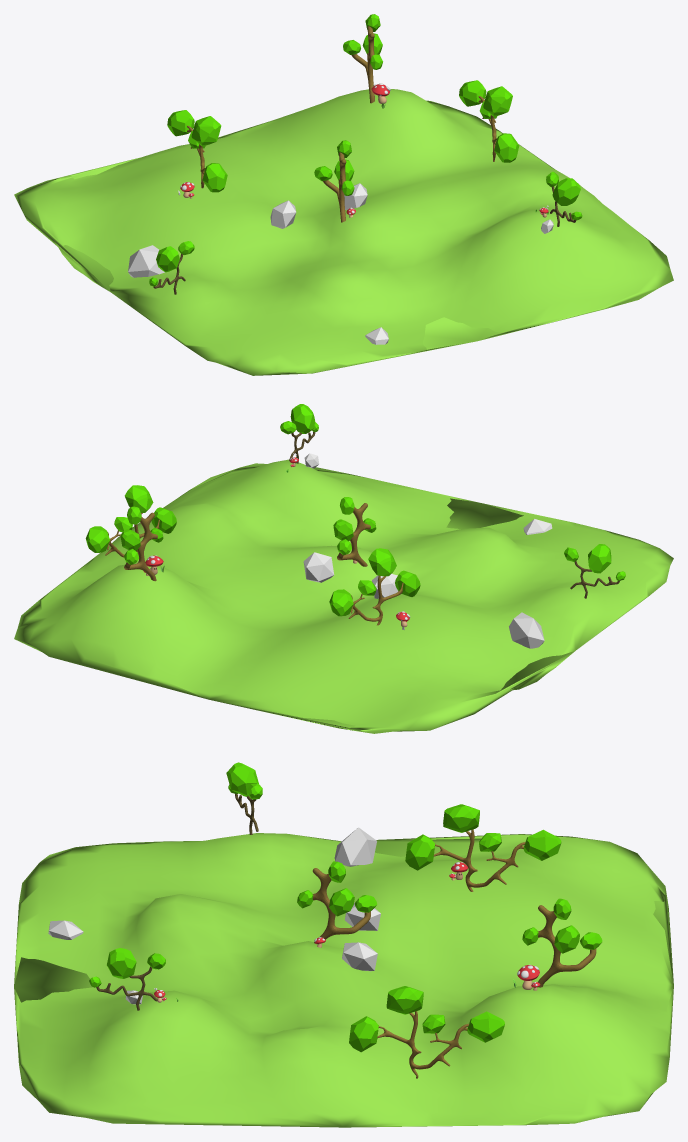
The model's file is terrainn 2.fbx.
3 renders of one model, top to bottom at view 1: azimuth 30°, elevation 25°; view 2: azimuth 150°, elevation 25°; view 3: azimuth 270°, elevation 25°, orthographic. The views are drawn at different scales.
Visible parts, largest first — view 1: Plane, Icosphere.027, Icosphere, Icosphere.018, Icosphere.005, Icosphere.019, Icosphere.002, Icosphere.023, Icosphere.020, Icosphere.004; view 2: Plane, Icosphere.027, Icosphere.022, Vert.002, Vert.005, Icosphere, Icosphere.005, Icosphere.018, Icosphere.012, Vert, Icosphere.004, Icosphere.020 (+1 smaller); view 3: Plane, Icosphere.027, Vert.002, Vert.006, Vert, Vert.005, Icosphere.018, Icosphere, Icosphere.020, Icosphere.004, Icosphere.022, Icosphere.002 (+3 smaller).
Boxes of the visible parts, left/top/right/bottom form: Plane: left=14, top=89, right=673, bottom=375; Icosphere.027: left=128, top=245, right=164, bottom=277; Icosphere: left=191, top=116, right=221, bottom=146; Icosphere.018: left=483, top=86, right=512, bottom=116; Icosphere.005: left=552, top=178, right=580, bottom=205; Icosphere.019: left=494, top=133, right=519, bottom=162; Icosphere.002: left=202, top=163, right=227, bottom=192; Icosphere.023: left=270, top=200, right=296, bottom=228; Icosphere.020: left=459, top=80, right=486, bottom=106; Icosphere.004: left=167, top=110, right=194, bottom=136; Plane: left=14, top=459, right=673, bottom=733; Icosphere.027: left=509, top=612, right=544, bottom=648; Icosphere.022: left=303, top=552, right=334, bottom=582; Vert.002: left=124, top=512, right=157, bottom=581; Vert.005: left=337, top=503, right=370, bottom=566; Icosphere: left=368, top=548, right=396, bottom=576; Icosphere.005: left=290, top=404, right=315, bottom=433; Icosphere.018: left=124, top=485, right=153, bottom=512; Icosphere.012: left=588, top=544, right=611, bottom=573; Vert: left=348, top=575, right=403, bottom=625; Icosphere.004: left=329, top=589, right=353, bottom=616; Icosphere.020: left=85, top=526, right=109, bottom=552; Plane: left=14, top=833, right=673, bottom=1127; Icosphere.027: left=334, top=827, right=376, bottom=866; Vert.002: left=538, top=905, right=596, bottom=987; Vert.006: left=377, top=1011, right=468, bottom=1078; Vert: left=433, top=829, right=525, bottom=891; Vert.005: left=312, top=868, right=370, bottom=944; Icosphere.018: left=386, top=986, right=423, bottom=1014; Icosphere: left=443, top=804, right=479, bottom=832; Icosphere.020: left=467, top=1011, right=504, bottom=1042; Icosphere.004: left=523, top=829, right=561, bottom=860; Icosphere.022: left=342, top=942, right=377, bottom=971; Icosphere.002: left=405, top=834, right=434, bottom=870.
Size of the model in its own units: 5316 by 1533 by 5292.
